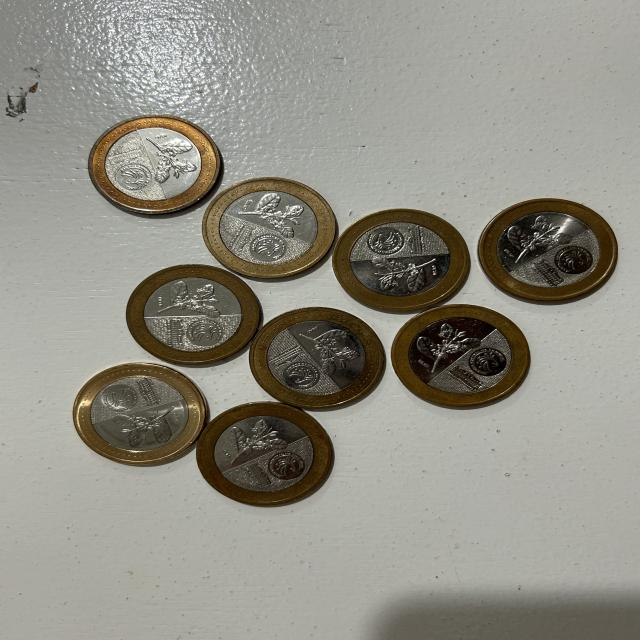20_New_Back: (300, 327, 362, 374), (238, 193, 302, 237), (140, 135, 198, 181), (118, 406, 183, 446), (507, 214, 568, 256), (419, 322, 477, 366), (159, 281, 228, 317), (230, 419, 290, 458), (368, 255, 432, 290)
